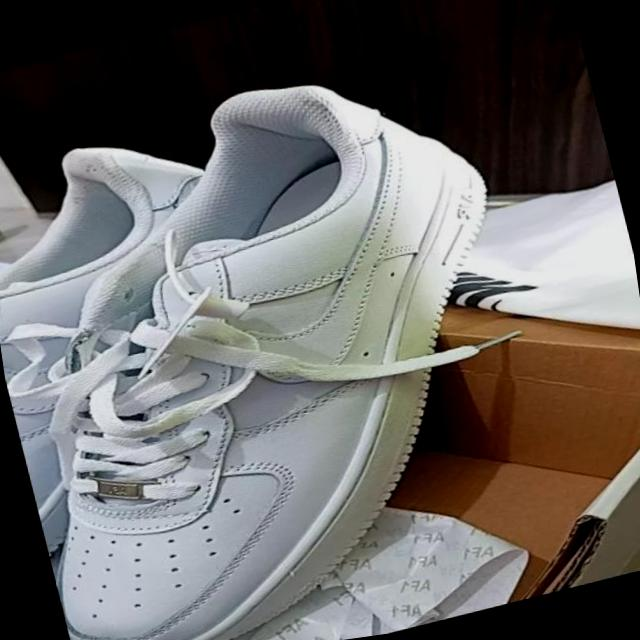nike_fake_airforce: (0, 34, 583, 640)
